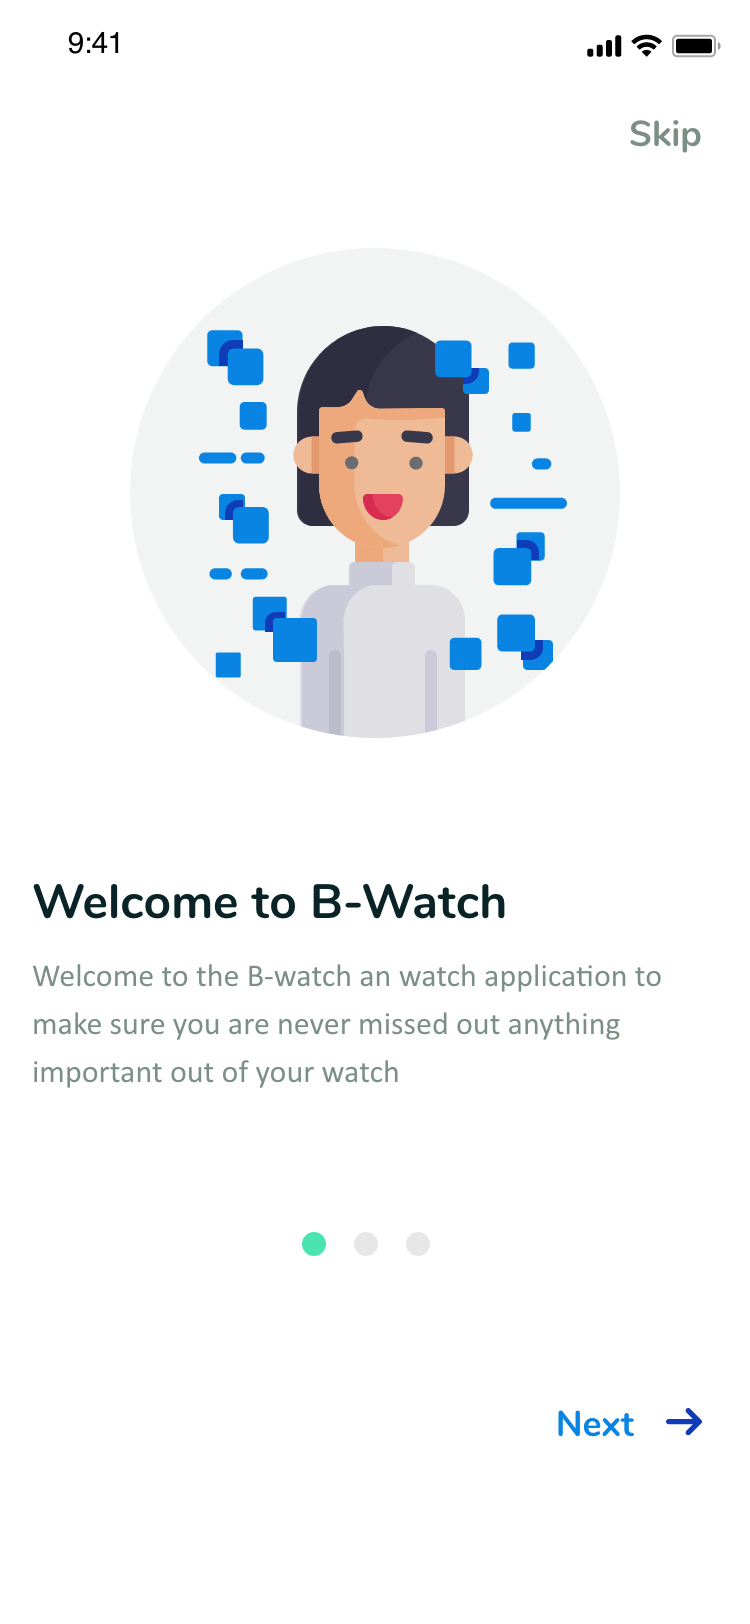Icon: (666, 1407, 704, 1436)
Image: (129, 247, 622, 740)
PageIndicator: (301, 1231, 432, 1258)
Text: (33, 963, 662, 1090), (33, 883, 506, 920), (630, 119, 702, 153), (558, 1408, 636, 1438)
UpperTaskBar: (67, 29, 722, 61)
